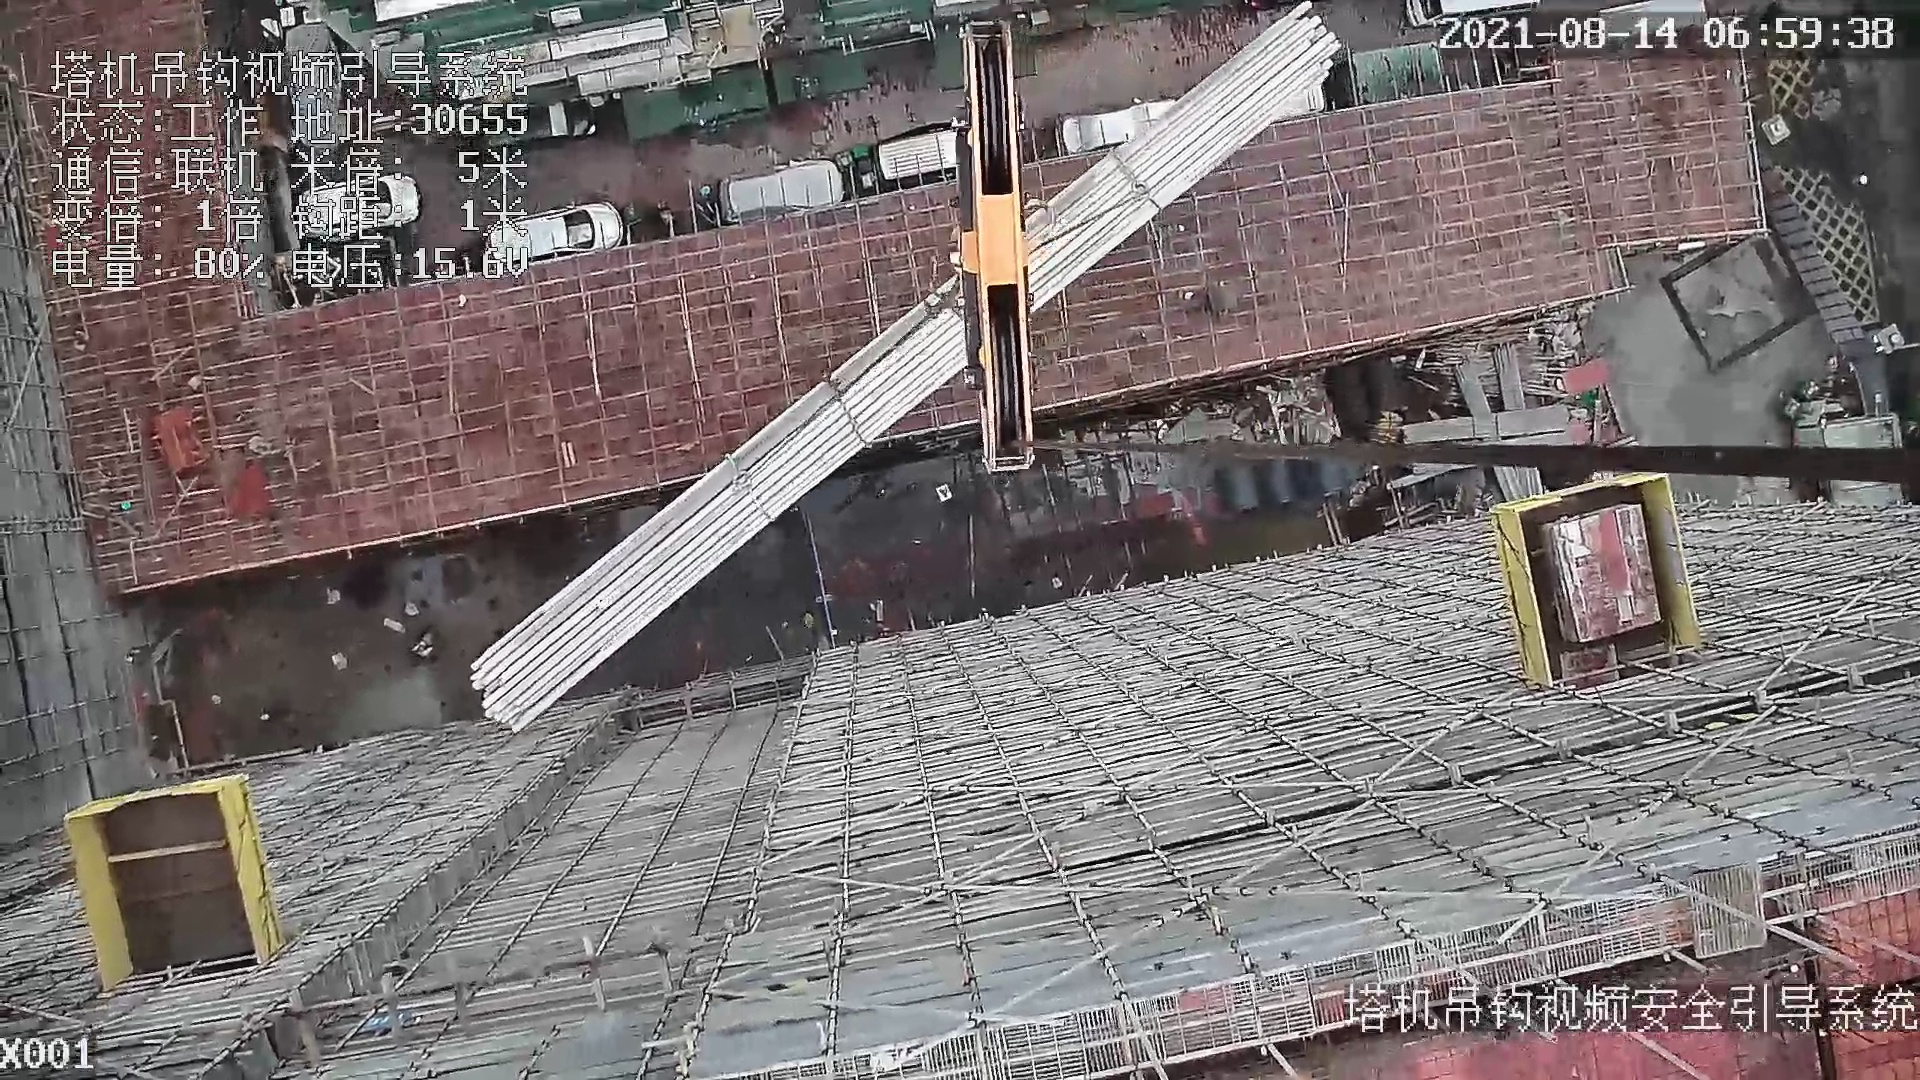board: (1543, 502, 1662, 644)
hook: (934, 17, 1042, 477)
rebar: (473, 7, 1336, 733), (1400, 404, 1569, 444), (1491, 343, 1526, 409), (1448, 361, 1491, 413)
